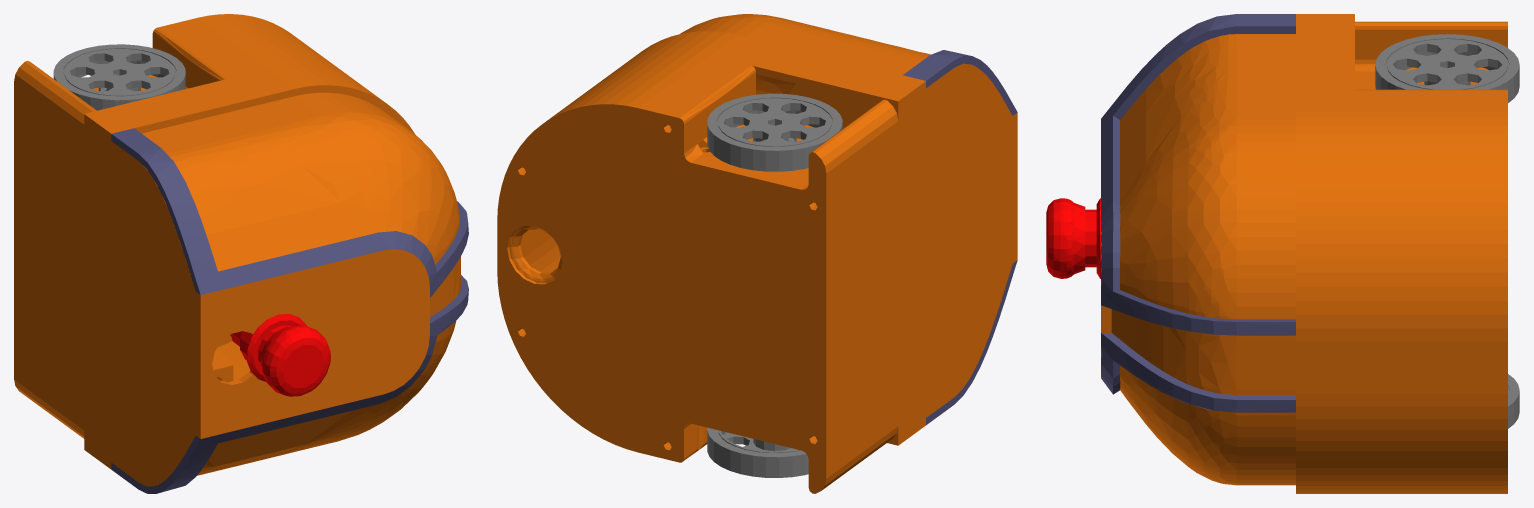
Rendered from pami2024.dae.
3 views of the same model, side by side, from view 1: azimuth 30°, elevation 25°; view 2: azimuth 150°, elevation 25°; view 3: azimuth 270°, elevation 25° (orthographic). The views are drawn at different scales.
Parts seen in each view (by area): view 1: node5, node4, node6, node1, node3, node7, node2; view 2: node2, node5, node4, node1, node0, node6, node7; view 3: node5, node4, node6, node1, node2, node7, node3, node0.
Boxes of the visible parts, x1,y1,x2,y2 form: node5: [84, 65, 460, 486]; node4: [20, 19, 357, 438]; node6: [111, 128, 468, 297]; node1: [53, 44, 185, 110]; node3: [230, 314, 330, 396]; node7: [111, 275, 468, 493]; node2: [14, 14, 295, 395]; node2: [497, 99, 832, 493]; node5: [617, 14, 1017, 445]; node4: [520, 51, 898, 485]; node1: [707, 93, 842, 171]; node0: [707, 427, 808, 477]; node6: [903, 50, 1017, 115]; node7: [926, 260, 1017, 425]; node5: [1101, 14, 1354, 493]; node4: [1355, 21, 1493, 493]; node6: [1101, 14, 1295, 335]; node1: [1375, 34, 1519, 102]; node2: [1493, 21, 1507, 493]; node7: [1101, 333, 1295, 412]; node3: [1046, 198, 1100, 278]; node0: [1508, 374, 1519, 428].
Size of the model in its own units: 140 by 164 by 140.
